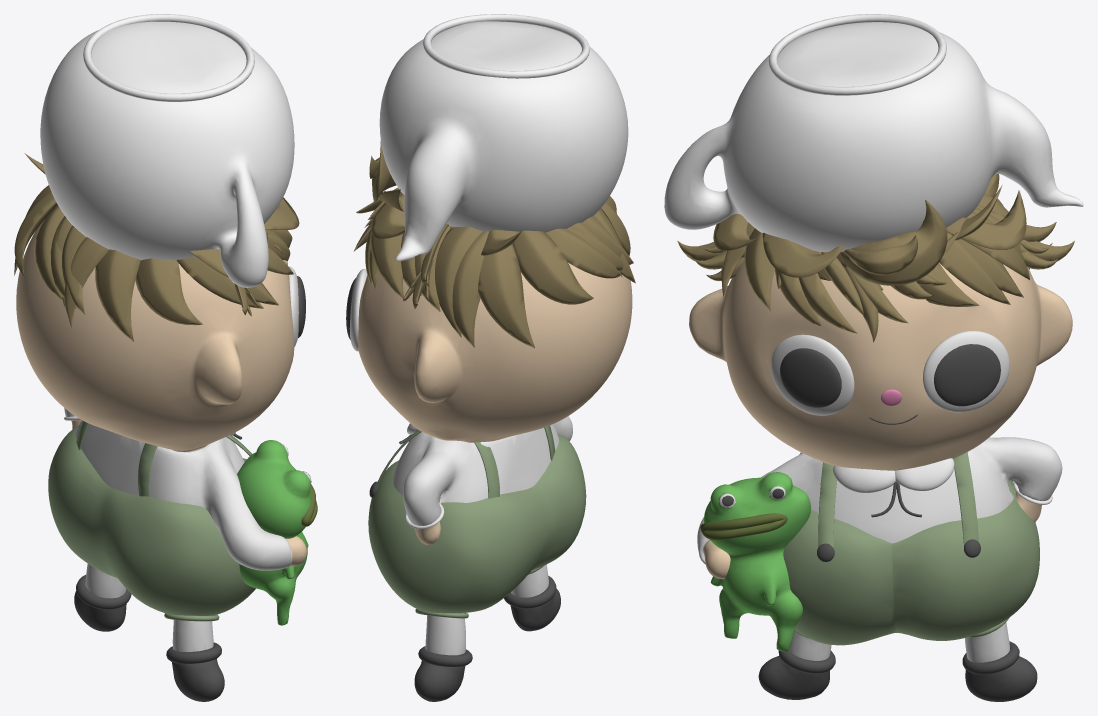
File: greg2c.glb
3 renders of one model, left to right at view 1: azimuth 30°, elevation 25°; view 2: azimuth 150°, elevation 25°; view 3: azimuth 270°, elevation 25°, orthographic. The views are drawn at different scales.
Parts seen in each view (by area): view 1: NurbsPath.001; view 2: NurbsPath.001; view 3: NurbsPath.001.
Boxes of the visible parts, x1,y1,x2,y2 form: NurbsPath.001: (14,14,317,701); NurbsPath.001: (346,14,635,701); NurbsPath.001: (664,14,1083,701).
Bounding box in the file's own units: 8.87 × 21.64 × 12.54.
